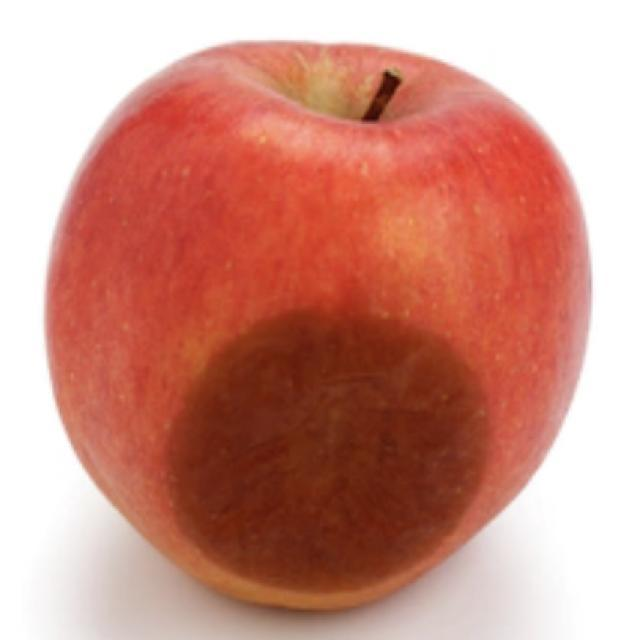Rotten: (41, 39, 594, 614)
